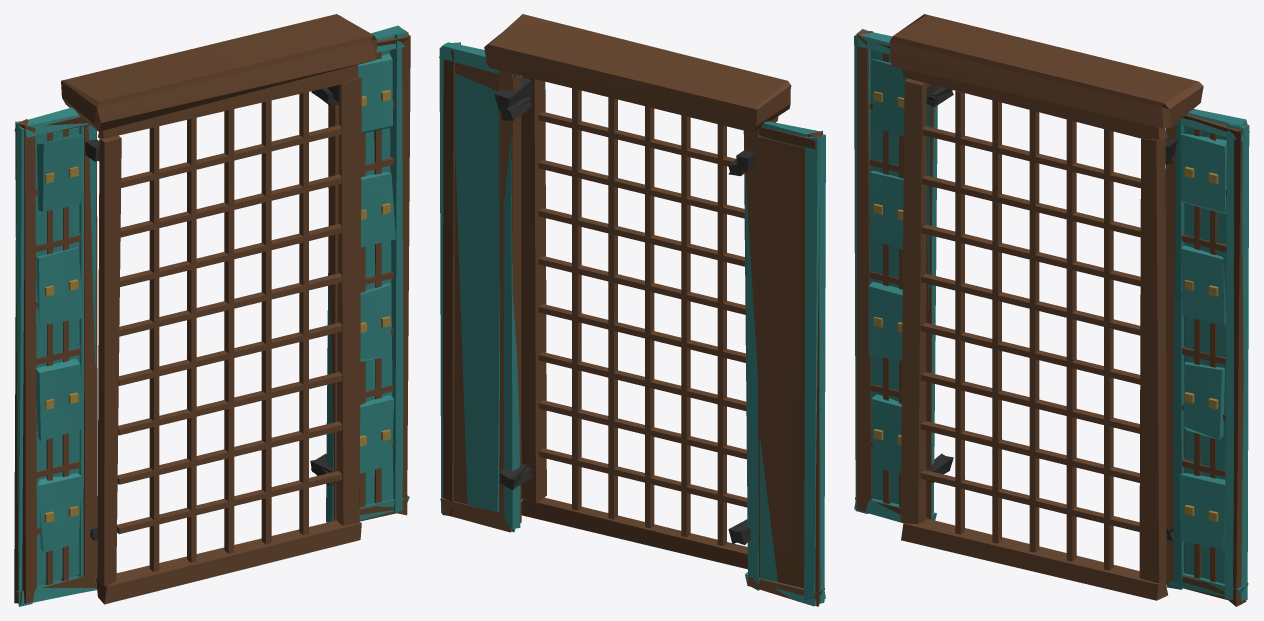
File: shutters.glb
The picture shows the model from 3 angles, left to right: view 1: azimuth 30°, elevation 25°; view 2: azimuth 150°, elevation 25°; view 3: azimuth 330°, elevation 25°; orthographic projection. The views are drawn at different scales.
Visible parts, largest first — view 1: shutters.v2.mesh, shutters.v1.mesh, shutters.v0.mesh; view 2: shutters.v2.mesh, shutters.v0.mesh, shutters.v1.mesh; view 3: shutters.v2.mesh, shutters.v1.mesh, shutters.v0.mesh.
Boxes of the visible parts, x1,y1,x2,y2 form: shutters.v2.mesh: [61, 14, 376, 604]; shutters.v1.mesh: [15, 25, 409, 606]; shutters.v0.mesh: [14, 34, 410, 603]; shutters.v2.mesh: [484, 14, 791, 569]; shutters.v0.mesh: [440, 46, 824, 606]; shutters.v1.mesh: [439, 42, 825, 606]; shutters.v2.mesh: [889, 14, 1203, 600]; shutters.v1.mesh: [854, 29, 1249, 600]; shutters.v0.mesh: [855, 30, 1248, 606].
Size of the model in its own units: 0.9735 by 1.21 by 0.1642.
